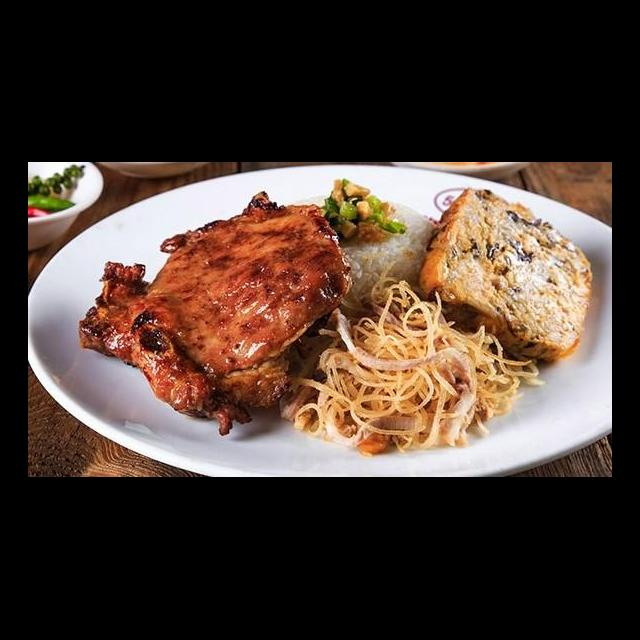bi: (280, 274, 546, 460)
cha: (415, 183, 595, 370)
com: (281, 190, 440, 324)
com suon bi cha: (44, 190, 612, 478)
suon: (75, 188, 356, 438)
